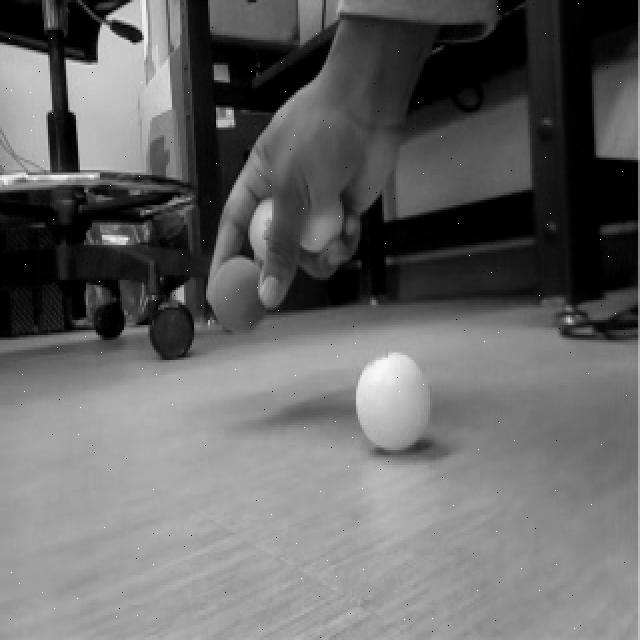ping-pong-ball: (356, 342, 432, 464), (211, 248, 265, 334), (249, 198, 300, 268), (300, 187, 344, 254)
